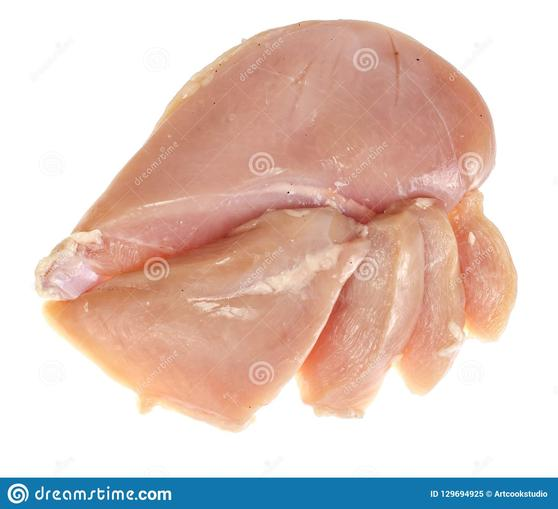chicken_fillet: (54, 199, 523, 430), (60, 18, 503, 247)
